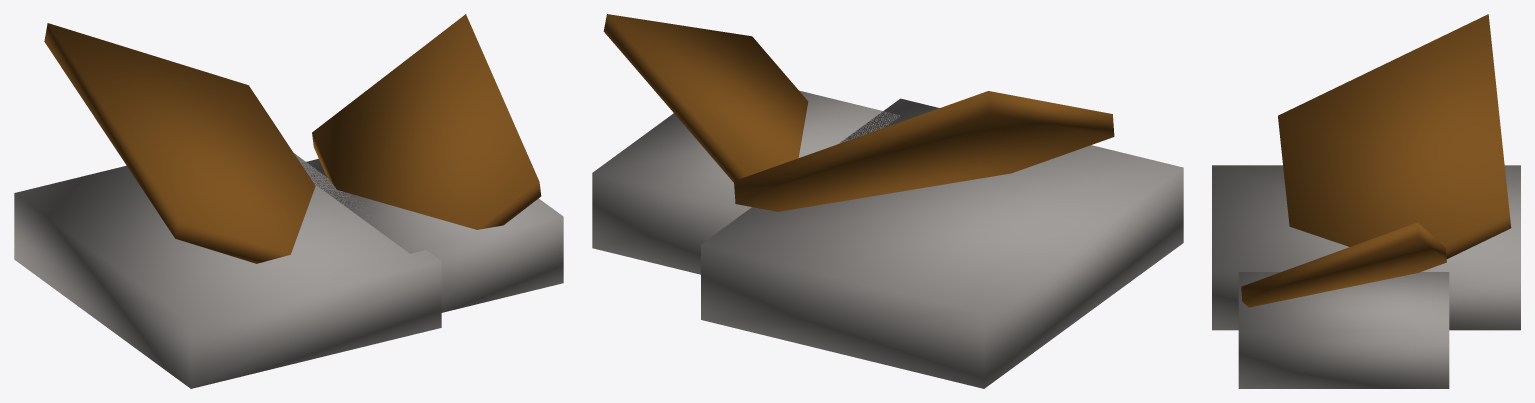
Rendered from craftsman-house-garage-wreck.glb.
3 views of the same model, side by side, from view 1: azimuth 30°, elevation 25°; view 2: azimuth 150°, elevation 25°; view 3: azimuth 270°, elevation 25° (orthographic). The views are drawn at different scales.
Parts seen in each view (by area): view 1: world; view 2: world; view 3: world.
Boxes of the visible parts, x1,y1,x2,y2 form: world: [14, 14, 563, 388]; world: [592, 14, 1183, 388]; world: [1212, 14, 1520, 388].
Bounding box in the file's own units: 15.5 × 9.5 × 12.
